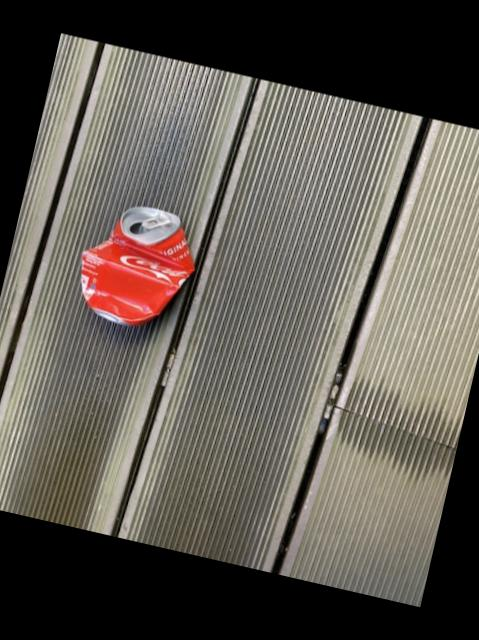metal: (77, 208, 190, 326)
